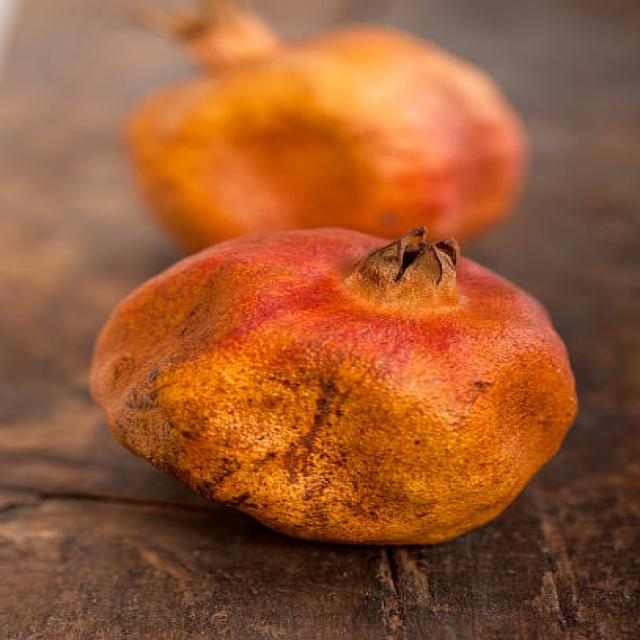overripe: (84, 216, 582, 553)
